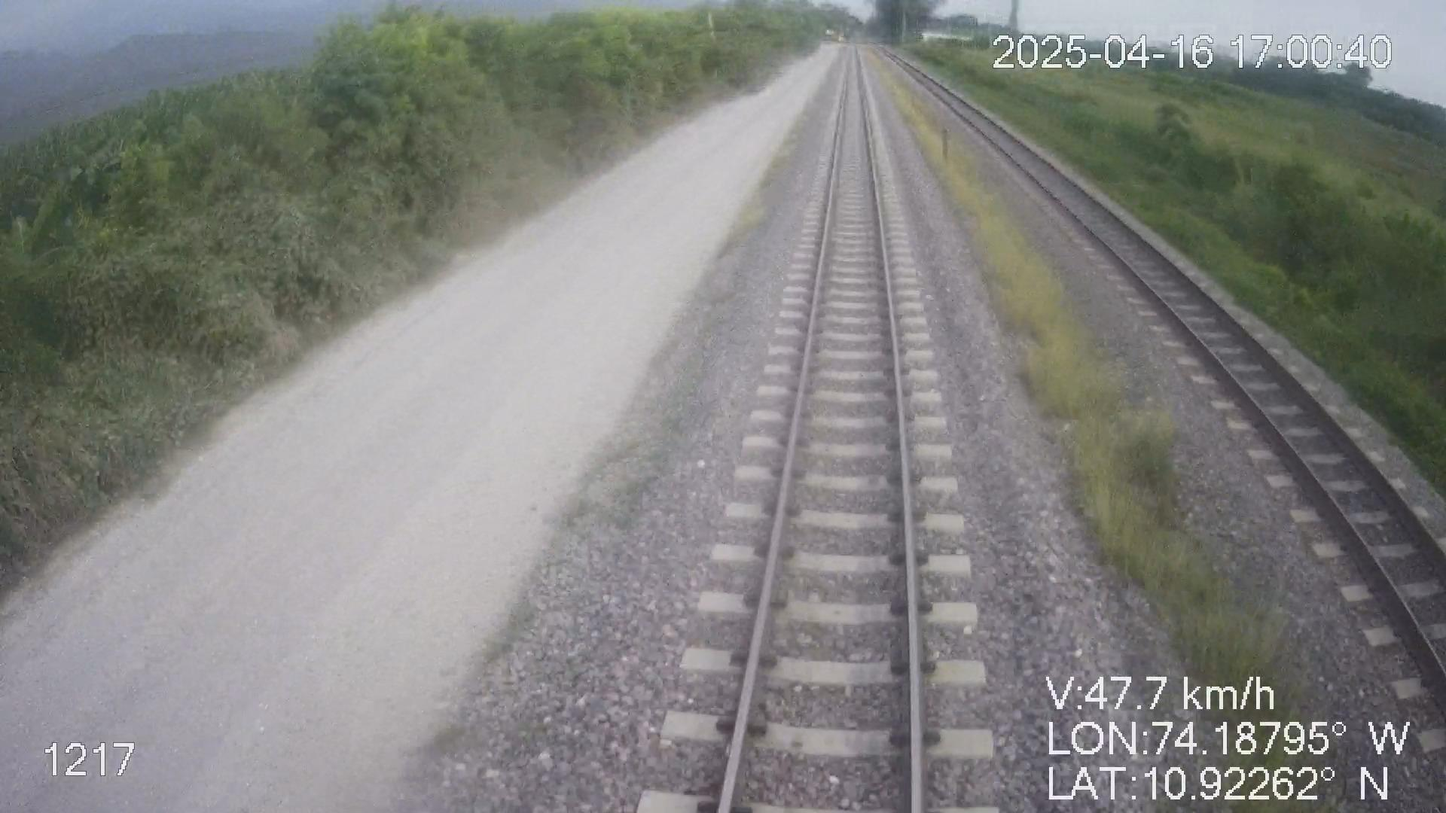Pasto: (0, 0, 837, 601), (906, 20, 1445, 510)
